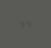four: (25, 20, 30, 27)
nine: (19, 20, 24, 28)
